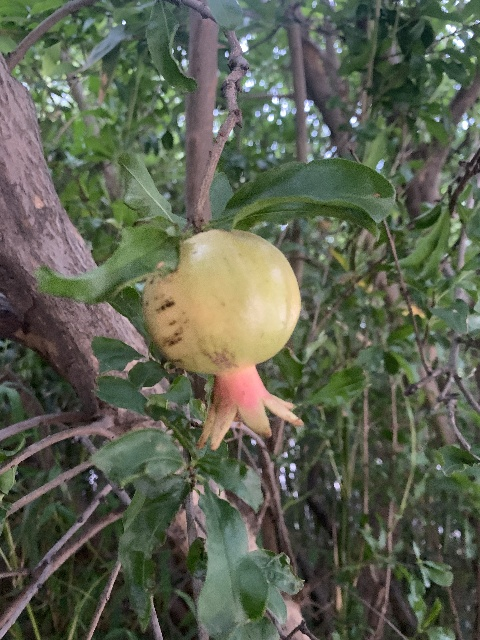mid-growth: (142, 228, 303, 451)
